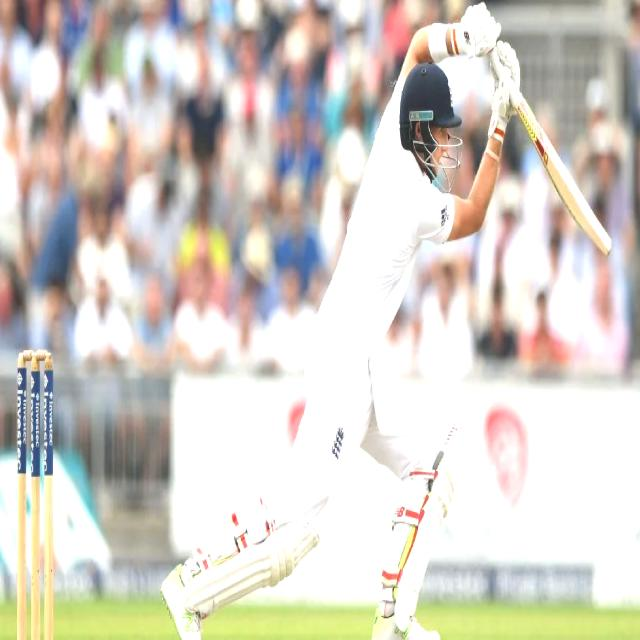toe: (581, 206, 613, 257)
